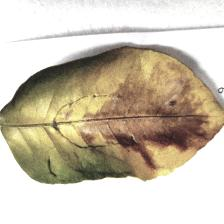canker: (48, 85, 219, 180)
